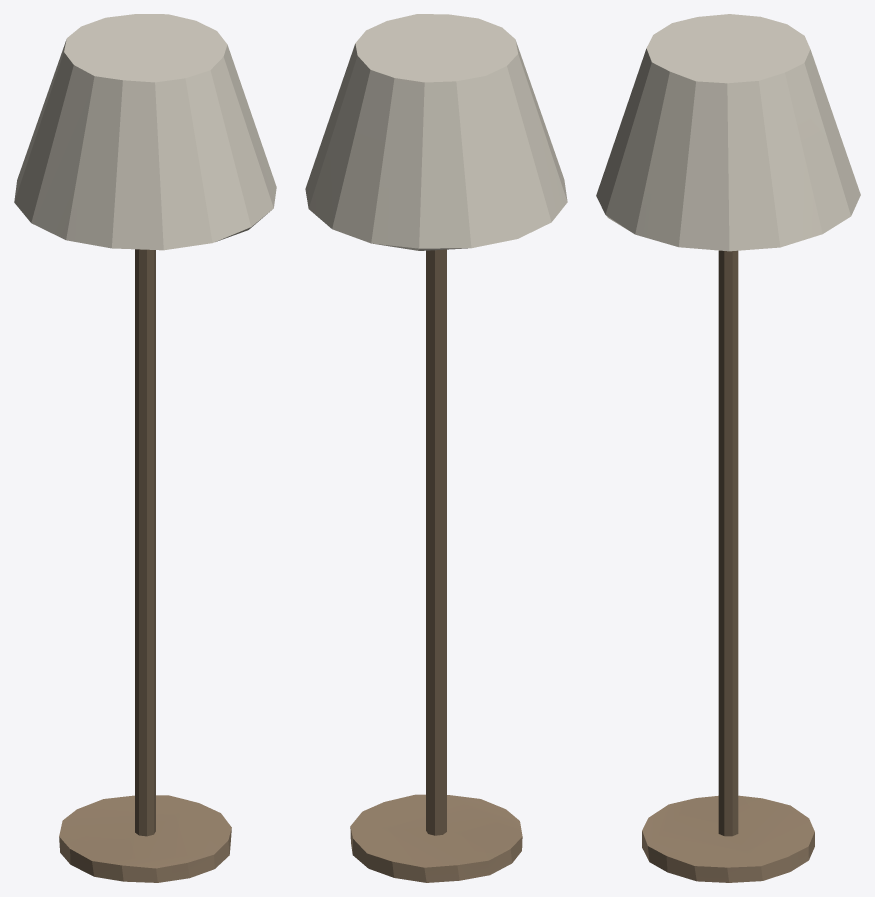
File: furn_floor_lamp__cream_low.glb
3 renders of one model, left to right at view 1: azimuth 30°, elevation 25°; view 2: azimuth 150°, elevation 25°; view 3: azimuth 270°, elevation 25°, orthographic.
Bounding box in the file's own units: 0.5122 × 1.71 × 0.5122.
